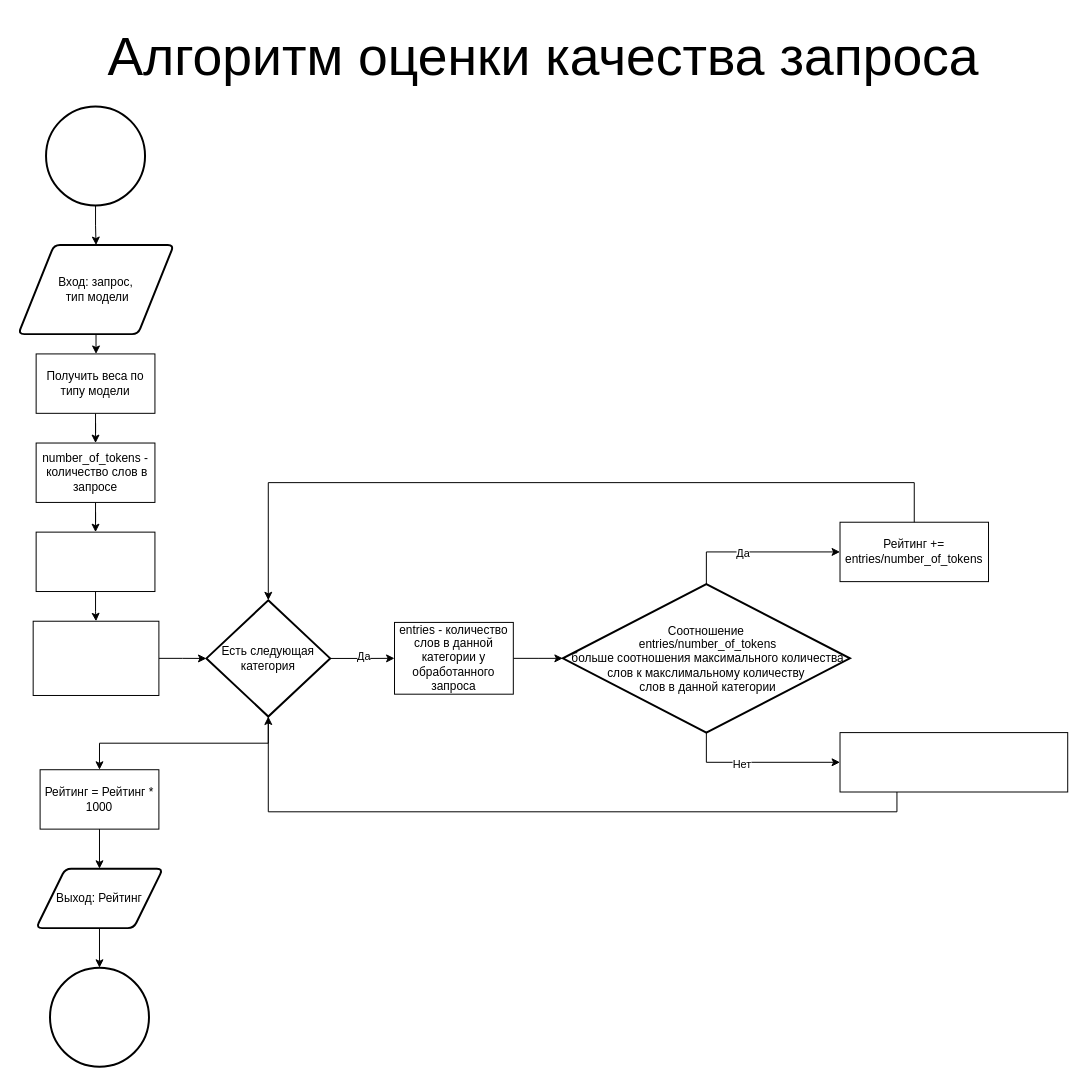
Image size: 1085x1084. Some labels were removed from this diagram. Here are the shapes that lost their labels. From the top down, the centre of each, then its label:
(95,155): Начало
(95,561): Разбить слова запроса на классы
(95,657): Рейтинг = 0 Максимальное количество слов = сумма всех весов модели
(953,762): Рейтинг += (2 * max_entries/ all_max_entries) - (entries / number_of_tokens)
(99,1016): Конец
